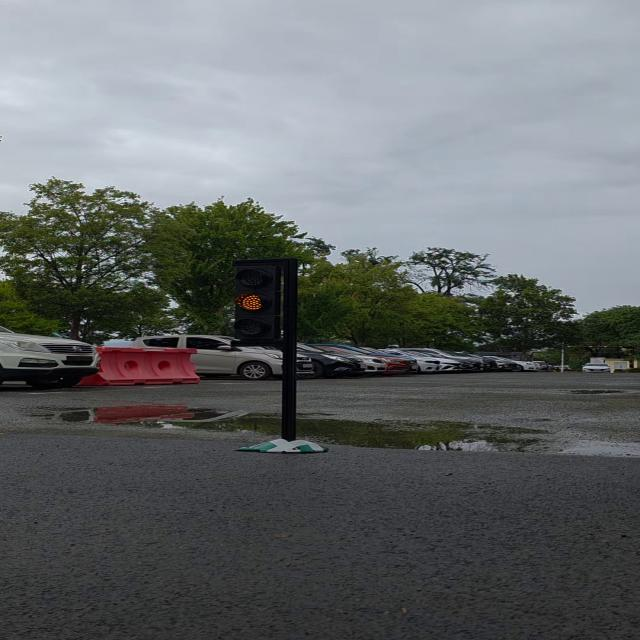yellow: (225, 254, 304, 348)
